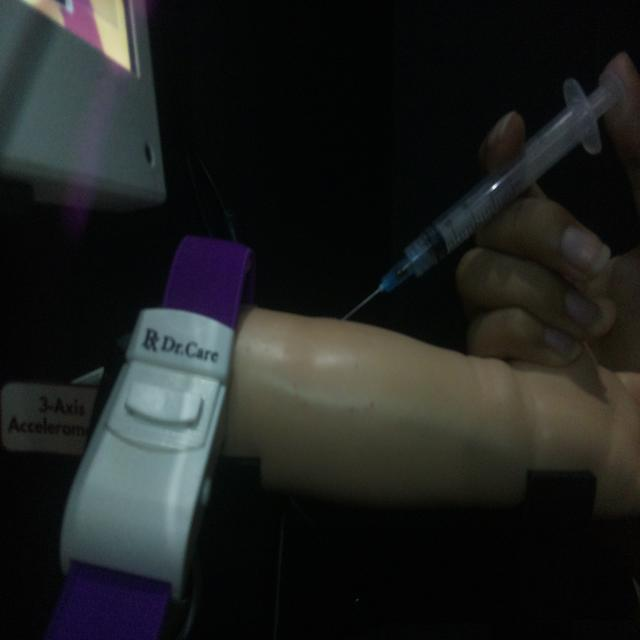30 degrees: (341, 63, 628, 320)
